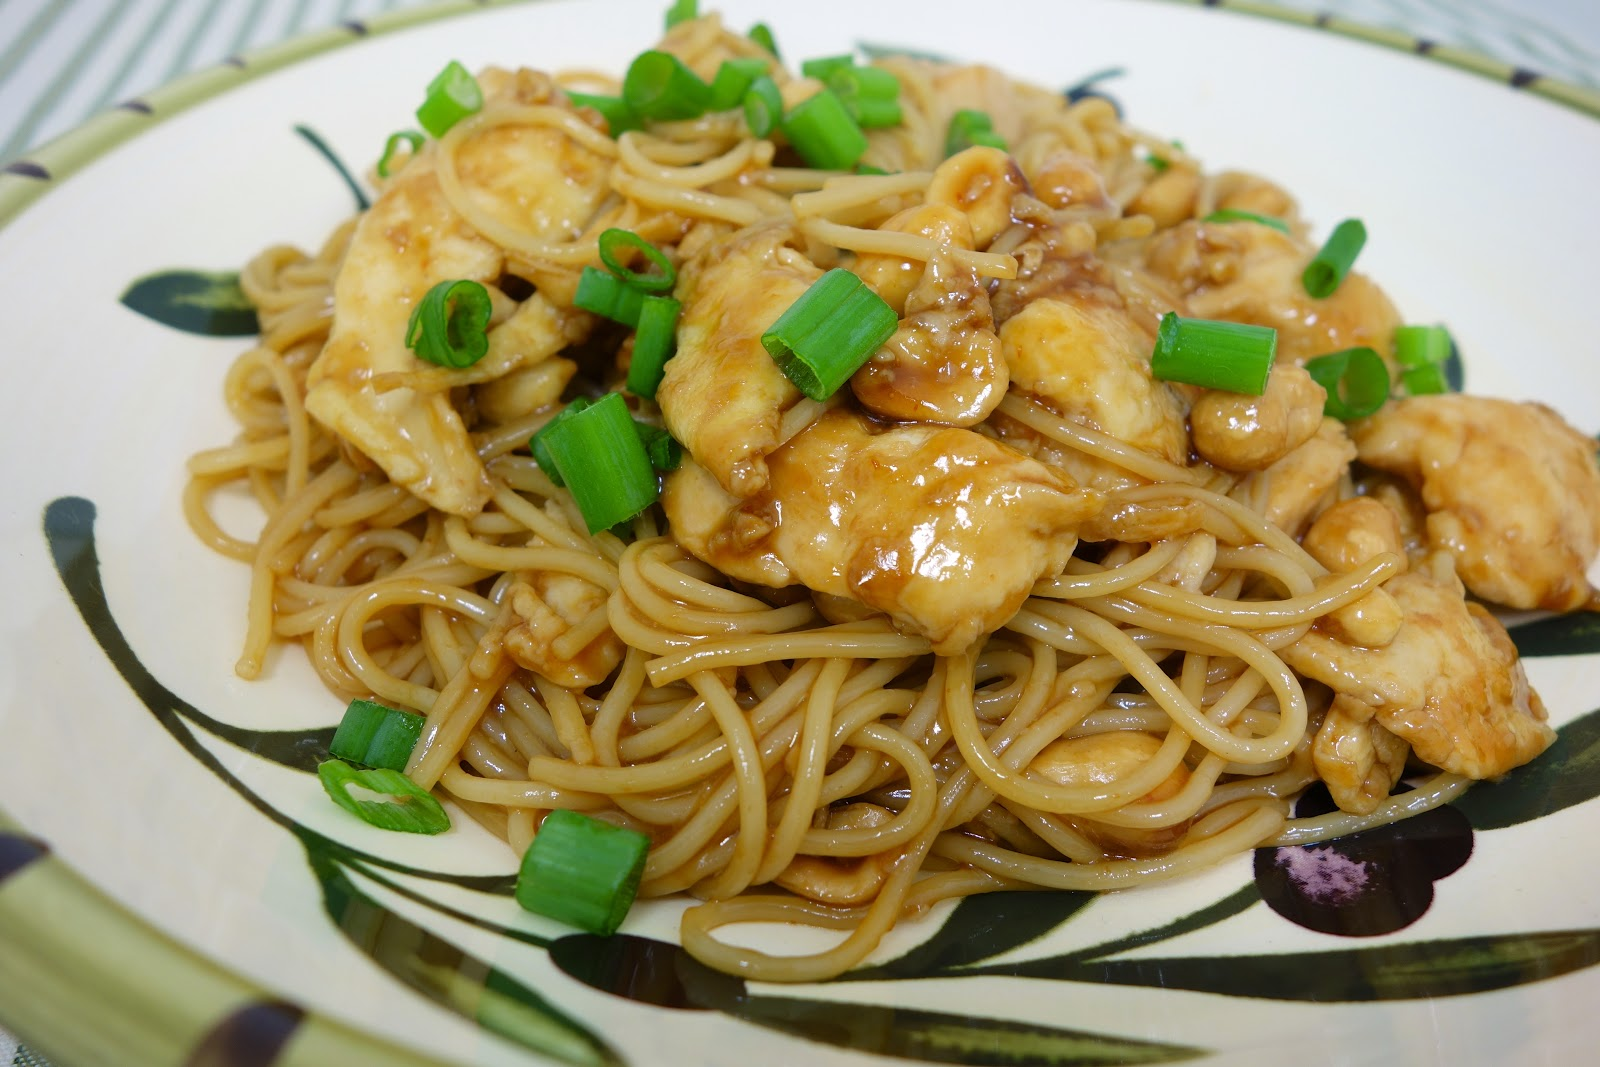plain spaghetti: (408, 564, 1048, 820)
